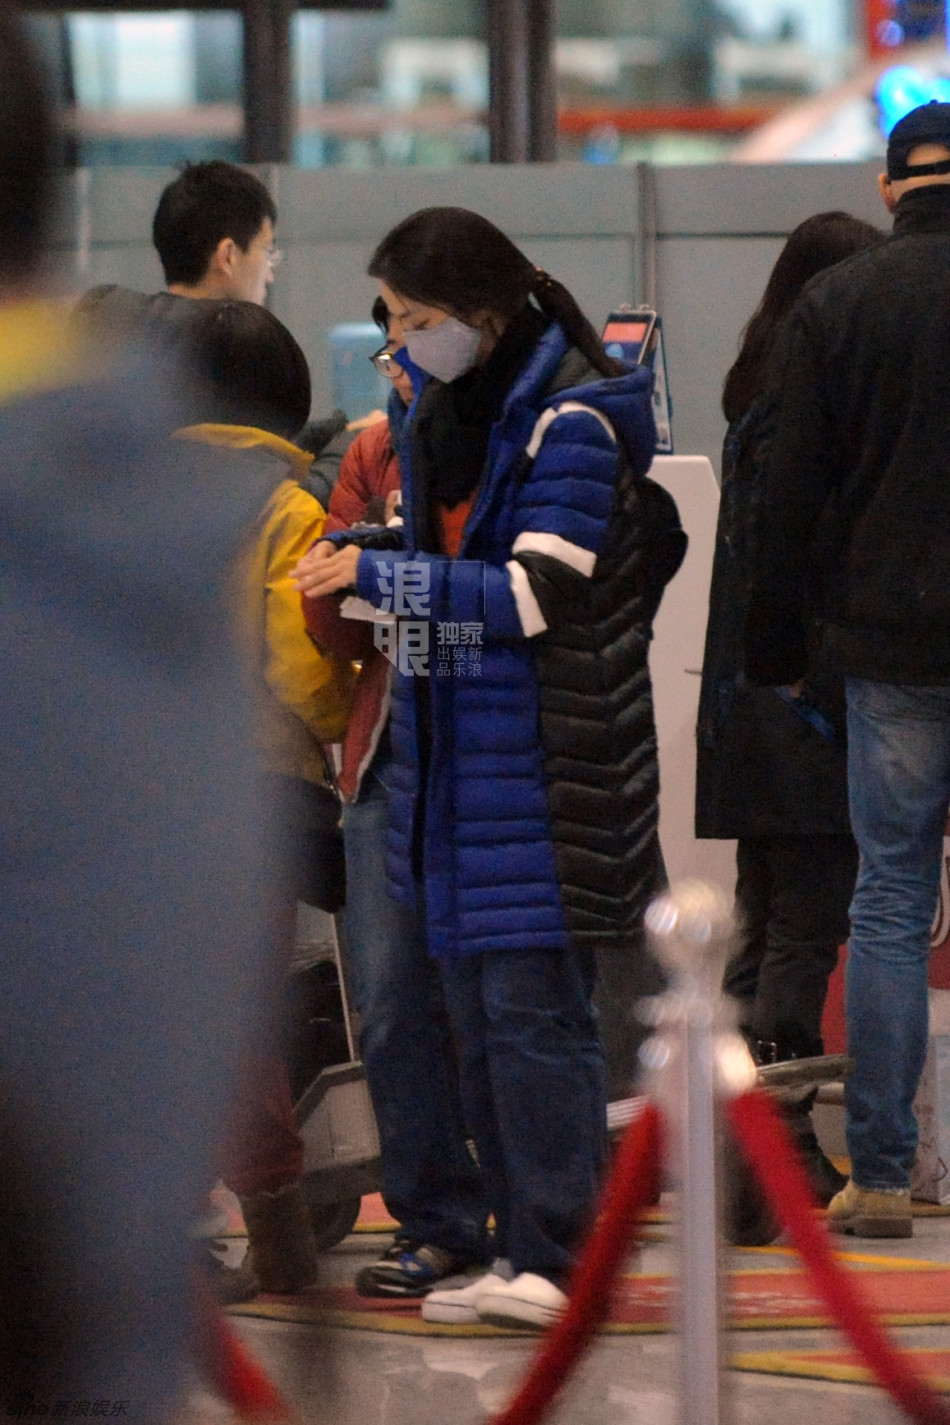face_mask: (390, 282, 459, 388), (224, 213, 276, 310)
